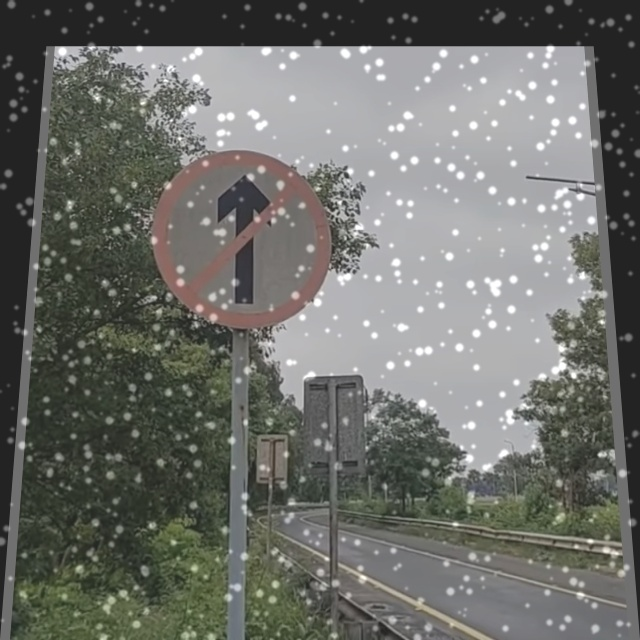No_Entry: (148, 154, 331, 327)
